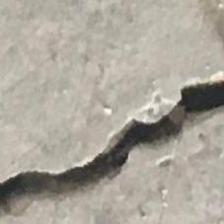Crack: (0, 79, 224, 210)
